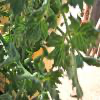Tomato leaf mosaic virus: (66, 14, 99, 52), (25, 16, 49, 43), (49, 35, 69, 65), (46, 70, 64, 87), (24, 76, 38, 97), (30, 37, 44, 56), (82, 55, 99, 70)
